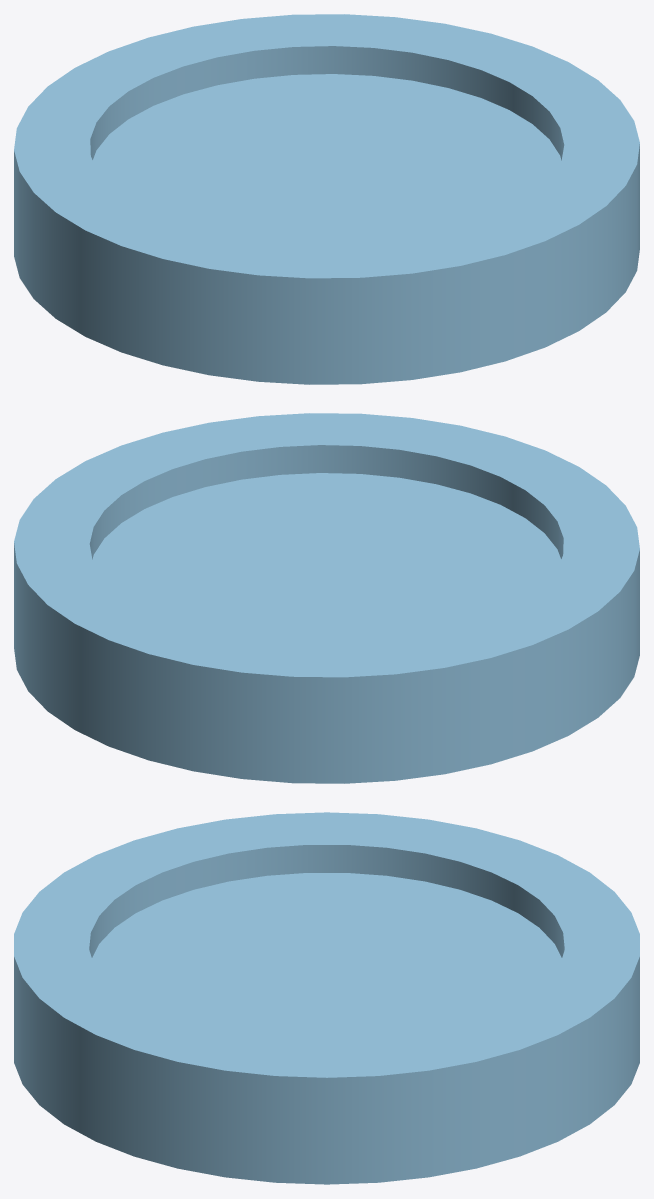
Rendered from wheel-collision.dae.
The picture shows the model from 3 angles, top to bottom: view 1: azimuth 30°, elevation 25°; view 2: azimuth 150°, elevation 25°; view 3: azimuth 270°, elevation 25°; orthographic projection.
Visible parts, largest first — view 1: ID2; view 2: ID2; view 3: ID2.
Part boxes in pixels (x1=…): ID2: x1=14, y1=14, x2=639, y2=384; ID2: x1=14, y1=413, x2=639, y2=783; ID2: x1=14, y1=812, x2=639, y2=1184.
Size of the model in its own units: 0.1016 by 0.1013 by 0.0191.
